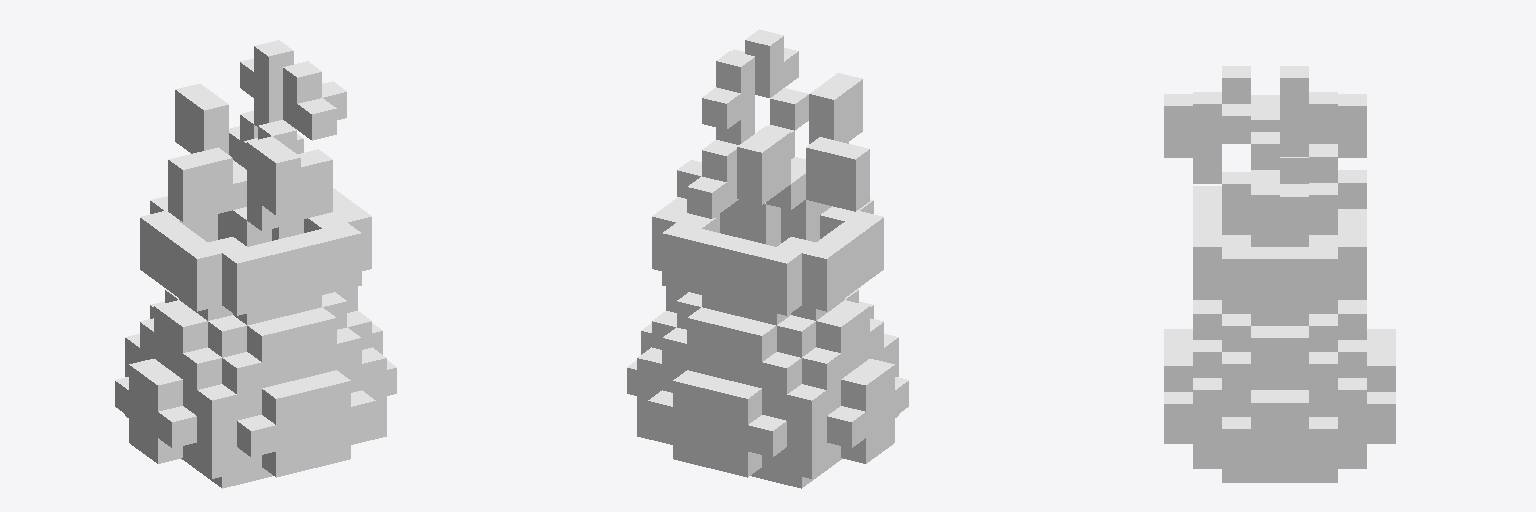
Rendered from Interior_Furniture-82.obj.
3 renders of one model, left to right at view 1: azimuth 30°, elevation 25°; view 2: azimuth 150°, elevation 25°; view 3: azimuth 270°, elevation 25°, orthographic.
Parts seen in each view (by area): view 1: object 1; view 2: object 1; view 3: object 1.
Boxes of the visible parts, <box> form: object 1: <box>115,40,396,488</box>; object 1: <box>627,29,908,488</box>; object 1: <box>1164,66,1395,482</box>.
Size of the model in its own units: 0.9 by 1.5 by 0.8.